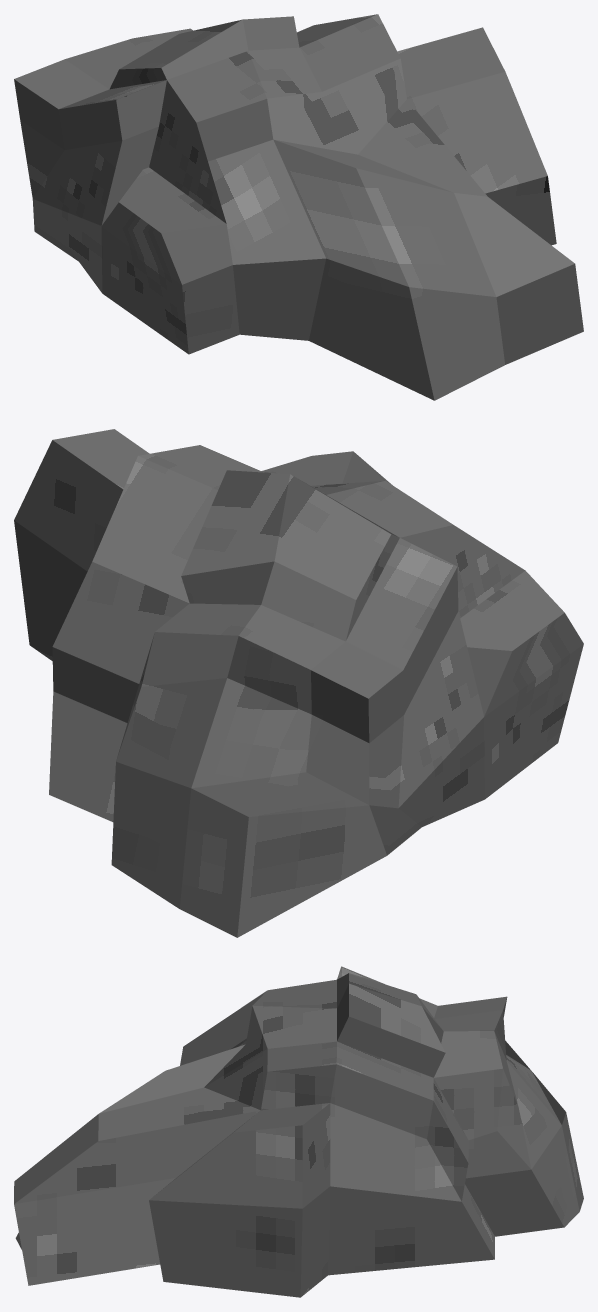
File: PixelRock2.glb
3 renders of one model, top to bottom at view 1: azimuth 30°, elevation 25°; view 2: azimuth 150°, elevation 25°; view 3: azimuth 270°, elevation 25°, orthographic. The views are drawn at different scales.
Parts seen in each view (by area): view 1: Cube; view 2: Cube; view 3: Cube.
Boxes of the visible parts, <box> form: Cube: <box>14,14,583,400</box>; Cube: <box>14,429,583,937</box>; Cube: <box>14,966,583,1297</box>.
Size of the model in its own units: 3.17 by 2.05 by 4.11.
Materials: 1 (1 with a texture image).
